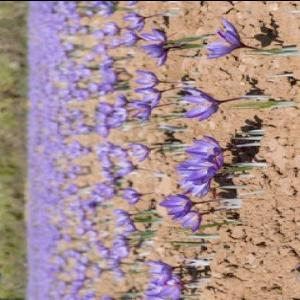Saffron: (204, 18, 246, 58), (179, 87, 217, 120), (159, 191, 191, 216), (137, 85, 163, 102), (132, 136, 152, 158), (133, 70, 159, 84), (118, 157, 136, 175), (132, 102, 152, 118), (121, 186, 140, 200), (126, 11, 142, 25)
